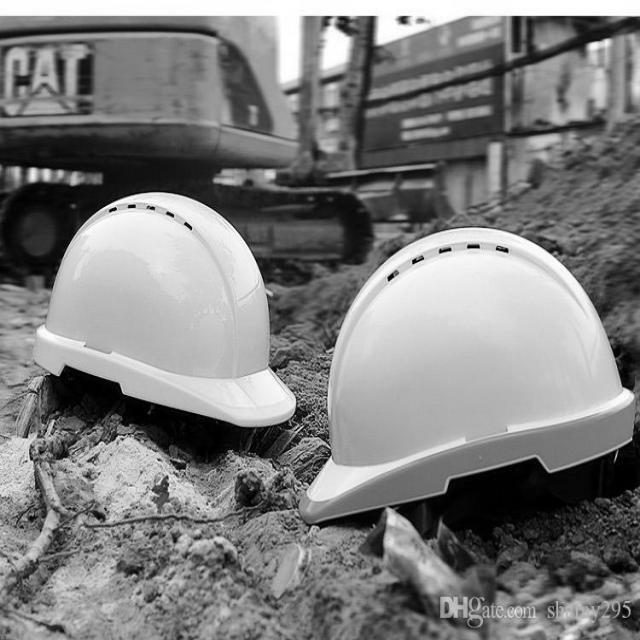safety_helmet: (297, 229, 636, 526), (32, 192, 297, 431)
